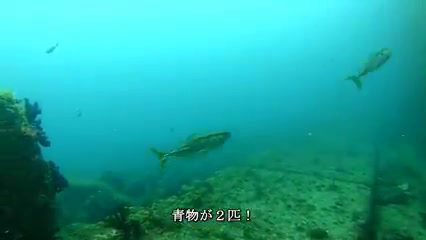smallfish: (146, 123, 232, 171), (341, 42, 398, 92)
